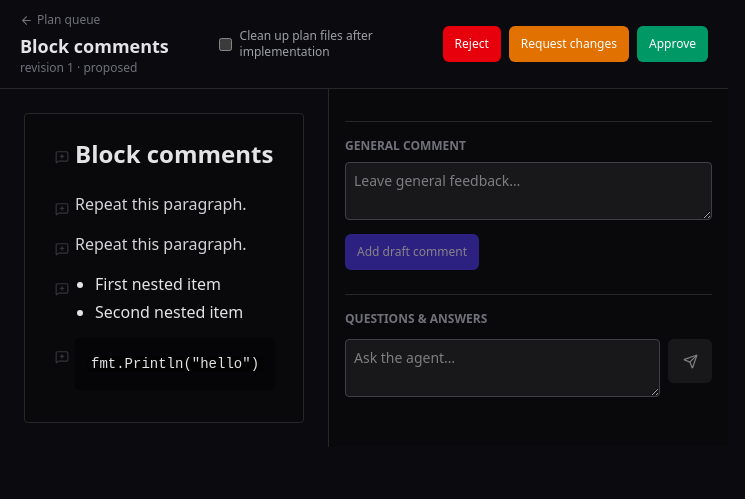
Test: PlanPage block comments › submits Q&A with Cmd+Enter and Ctrl+Enter but not plain Enter
Type "First question" into the text box named "Question for plan agent".
click(502, 368); type("First question")  # box [345,339,660,397]
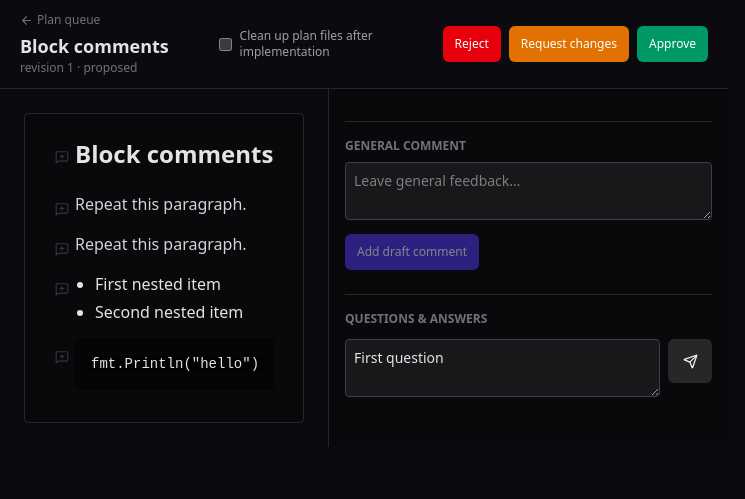
Press Enter in the text box named "Question for plan agent", box [345,339,660,397]
Press Enter in the text box named "Question for plan agent", box [345,339,660,397]
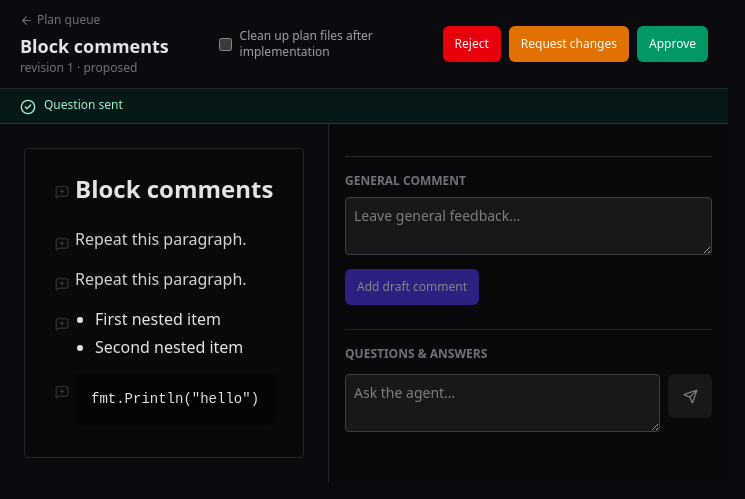
Expected: the message reads "Question sent", [44,96,123,113]
Type "Second question" into the text box named "Question for plan agent".
click(502, 403); type("Second question")  # box [345,374,660,432]
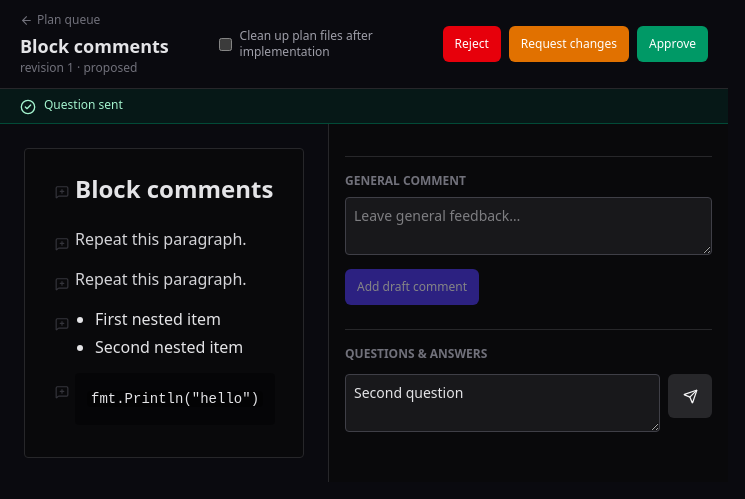
Press Enter in the text box named "Question for plan agent", box [345,374,660,432]
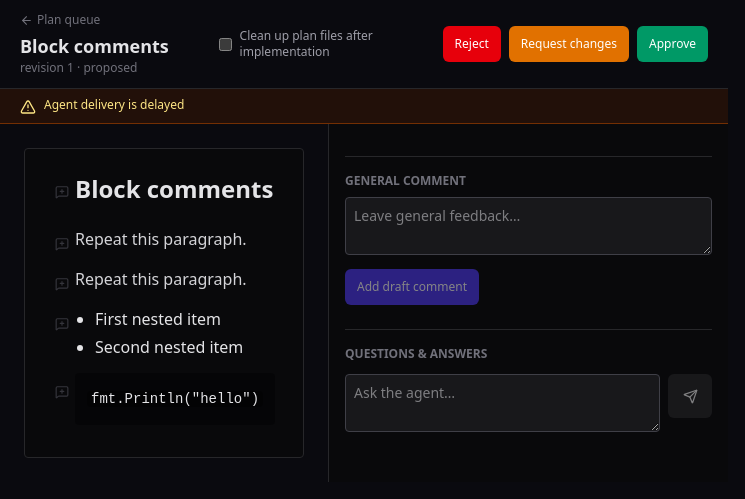
Expected: the message reads "Agent delivery is delayed", [44,96,184,113]
